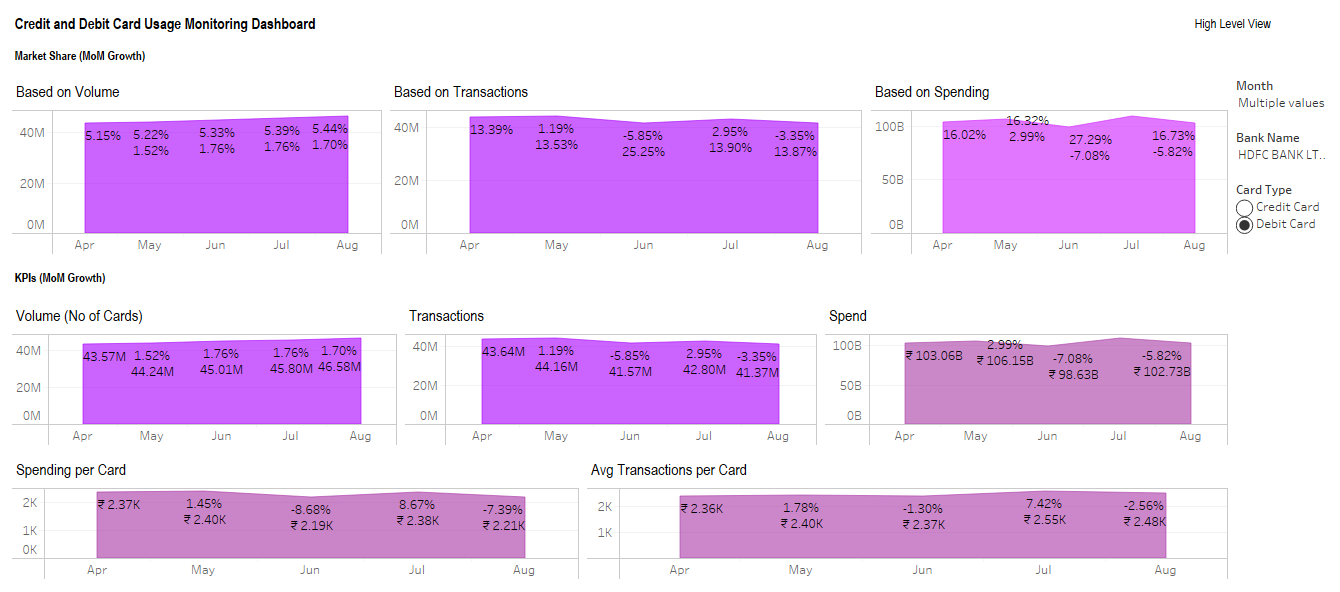

This screenshot's page, from the dashboard's own definition file:
{"tool":"tableau","page":{"name":"Credit and Debit Card Usage Monitoring Dashboard 2","canvas":[1000,1000],"units":"permille","ordinal":1},"visuals":[{"type":"text","box":[6.9,13.5,878.9,54.1]},{"type":"text","box":[885.8,13.5,107.2,54.1]},{"type":"text","box":[6.9,67.6,986.1,54.1]},{"type":"worksheet","title":"Based on Volume","mark":"Area","rows":["Calculation_210543327066386432"],"cols":["Year","Month"],"box":[6.9,121.6,278.1,315.9]},{"type":"worksheet","title":"Based on Transactions","mark":"Area","rows":["Calculation_210543327066513409"],"cols":["Year","Month"],"box":[285,121.6,352.9,315.9]},{"type":"worksheet","title":"Based on Spending","mark":"Area","rows":["Calculation_210543327066660866"],"cols":["Year","Month"],"box":[637.9,121.6,268.6,315.9]},{"type":"filter","title":"Based on Volume","param":"[federated.12tx3680js95tj16g58zu03pd9tj].[none:Month:nk]","box":[906.5,121.6,86.6,87.8]},{"type":"filter","title":"Based on Volume","param":"[federated.12tx3680js95tj16g58zu03pd9tj].[none:Bank_Name:nk]","box":[906.5,209.5,86.6,87.8]},{"type":"parameter","param":"[Parameters].[Parameter 1]","box":[906.5,297.3,86.6,118.2]},{"type":"text","box":[6.9,437.5,899.6,62.5]},{"type":"worksheet","title":"Volume (No of Cards)","mark":"Area","rows":["Calculation_210543327066386432"],"cols":["Year","Month"],"box":[6.9,500,288.8,259.8]},{"type":"worksheet","title":"Transactions","mark":"Area","rows":["Calculation_210543327066513409"],"cols":["Year","Month"],"box":[295.7,500,308.7,259.8]},{"type":"worksheet","title":"Spend","mark":"Area","rows":["Calculation_210543327066660866"],"cols":["Year","Month"],"box":[604.5,500,302,259.8]},{"type":"worksheet","title":"Spending per Card","mark":"Area","rows":["Calculation_66991089298948096"],"cols":["Year","Month"],"box":[6.9,759.8,422.7,226.7]},{"type":"worksheet","title":"Avg Transactions per Card","mark":"Area","rows":["Calculation_66991089304100865"],"cols":["Year","Month"],"box":[429.7,759.8,476.8,226.7]}]}

Visuals, with their boxes on the dashboard's canvas, which has no fixed pixel size, in thousandths of its width and height (x1, y1, x2, y2). These are canvas units, not pixel positions in the 1340x592 screenshot, which may show the page scaled, cropped or inside an application window:
text: locate(7, 14, 886, 68)
text: locate(886, 14, 993, 68)
text: locate(7, 68, 993, 122)
"Based on Volume" worksheet (Area marks): locate(7, 122, 285, 438)
"Based on Transactions" worksheet (Area marks): locate(285, 122, 638, 438)
"Based on Spending" worksheet (Area marks): locate(638, 122, 906, 438)
"Based on Volume" filter: locate(906, 122, 993, 209)
"Based on Volume" filter: locate(906, 210, 993, 297)
parameter: locate(906, 297, 993, 416)
text: locate(7, 438, 906, 500)
"Volume (No of Cards)" worksheet (Area marks): locate(7, 500, 296, 760)
"Transactions" worksheet (Area marks): locate(296, 500, 604, 760)
"Spend" worksheet (Area marks): locate(604, 500, 906, 760)
"Spending per Card" worksheet (Area marks): locate(7, 760, 430, 986)
"Avg Transactions per Card" worksheet (Area marks): locate(430, 760, 906, 986)
